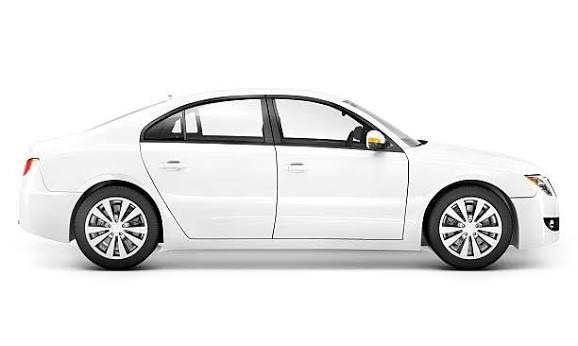car: (3, 88, 578, 266), (1, 88, 578, 265)
